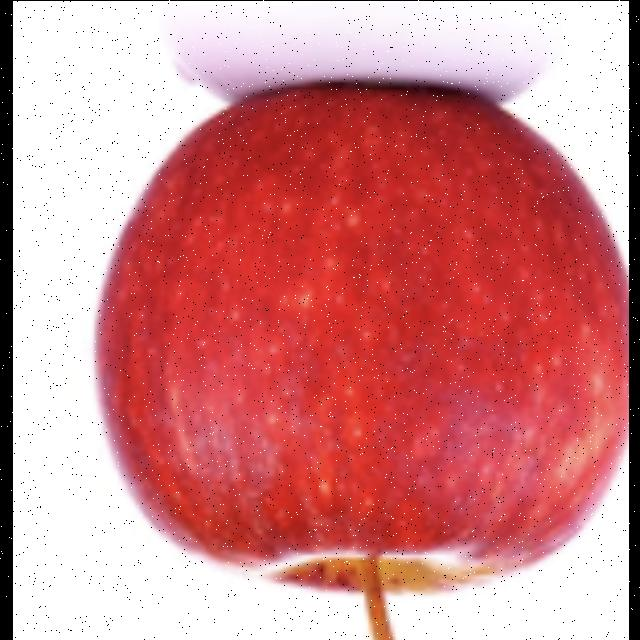Apel Segar: (96, 80, 628, 594)
